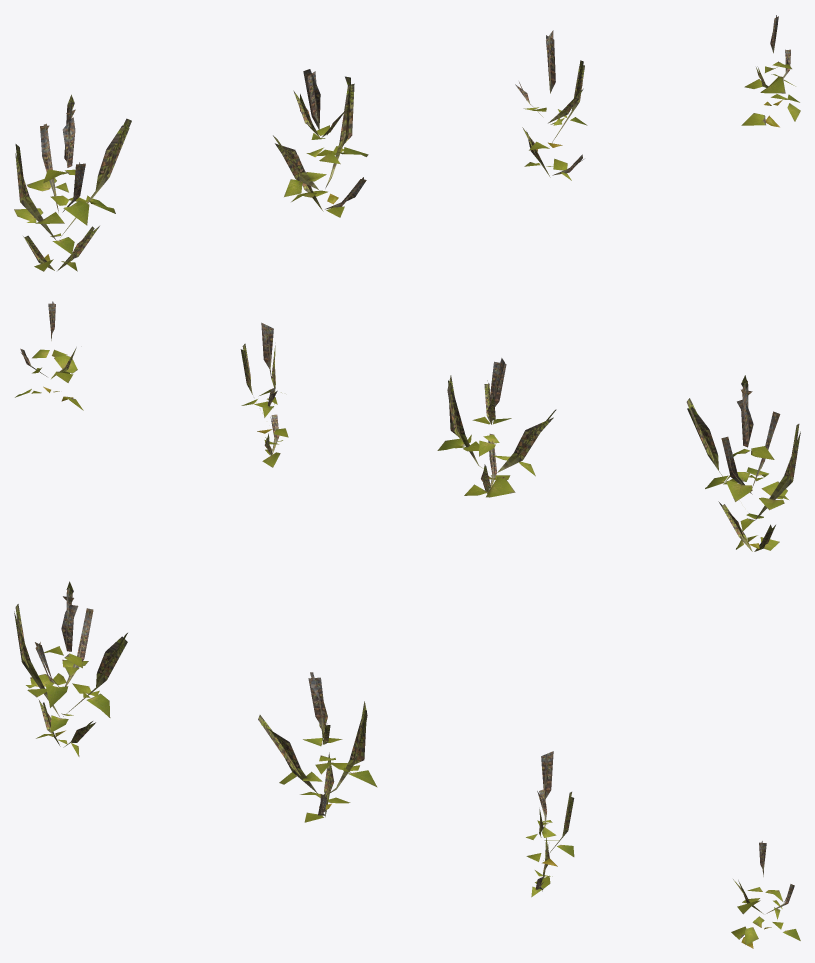
Rendered from shrub-03.glb.
3 views of the same model, one above another, from view 1: azimuth 30°, elevation 25°; view 2: azimuth 150°, elevation 25°; view 3: azimuth 330°, elevation 25° (orthographic). The views are drawn at different scales.
Parts seen in each view (by area): view 1: shrub_03_a; view 2: shrub_03_a; view 3: shrub_03_a.
Part boxes in pixels (x1,y1,x2,y2): shrub_03_a: (14, 15, 800, 271); shrub_03_a: (15, 301, 800, 551); shrub_03_a: (14, 581, 800, 948).
Size of the model in its own units: 1.36 by 0.3339 by 0.1512.
Materials: 1 (1 with a texture image).
